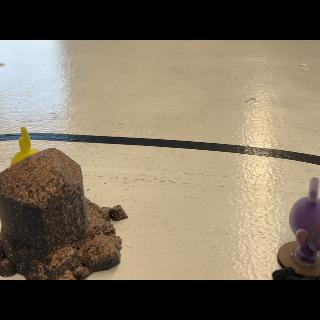teletubby: (289, 177, 320, 264), (10, 126, 40, 166)
